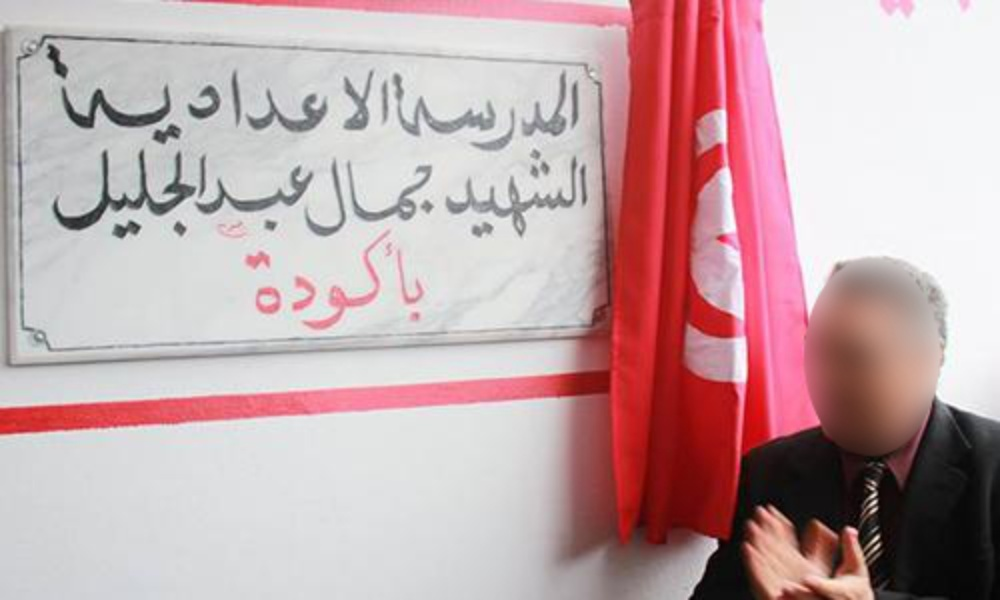text: (417, 217, 433, 339), (241, 217, 256, 339), (257, 217, 272, 339), (273, 217, 288, 339), (289, 217, 304, 339), (305, 217, 320, 339), (321, 217, 336, 339), (337, 217, 352, 339), (353, 217, 368, 339), (369, 217, 384, 339), (385, 217, 400, 339), (401, 217, 416, 339), (49, 45, 64, 147), (65, 45, 80, 147), (81, 45, 96, 147), (97, 45, 112, 147), (113, 45, 128, 147), (129, 45, 144, 147), (145, 45, 160, 147), (161, 45, 176, 147), (177, 45, 192, 147), (193, 45, 208, 147), (209, 45, 224, 147), (225, 45, 240, 147), (241, 45, 256, 147), (257, 45, 272, 147), (273, 45, 288, 147), (289, 45, 304, 147), (305, 45, 320, 147), (321, 45, 336, 147), (337, 45, 352, 147), (353, 45, 368, 147), (369, 45, 384, 147), (81, 145, 96, 243), (97, 145, 112, 243), (113, 145, 128, 243), (129, 145, 144, 243), (145, 145, 160, 243), (161, 145, 176, 243), (177, 145, 192, 243), (193, 145, 208, 243), (209, 145, 224, 243), (225, 145, 240, 243), (241, 145, 256, 243), (257, 145, 272, 243), (273, 145, 288, 243), (289, 145, 304, 243), (305, 145, 320, 243), (337, 149, 352, 245), (353, 149, 368, 245), (369, 149, 384, 245), (385, 149, 400, 245), (401, 149, 416, 245), (417, 149, 432, 245), (449, 149, 464, 241), (465, 149, 480, 241), (481, 149, 496, 241), (497, 149, 512, 241), (513, 149, 528, 241), (529, 149, 544, 241), (545, 149, 560, 241), (561, 149, 576, 241), (401, 61, 416, 151), (417, 61, 432, 151), (433, 61, 448, 151), (449, 61, 464, 151), (465, 61, 480, 151), (481, 61, 496, 151), (497, 61, 512, 151), (513, 61, 528, 151), (529, 61, 544, 151), (545, 61, 560, 151), (561, 61, 576, 151), (577, 149, 589, 241), (69, 145, 80, 243), (325, 149, 336, 245), (233, 217, 240, 339), (391, 61, 400, 151), (433, 149, 439, 245), (443, 149, 448, 241), (385, 45, 389, 147), (321, 145, 325, 243), (577, 61, 581, 151), (45, 45, 48, 147)
